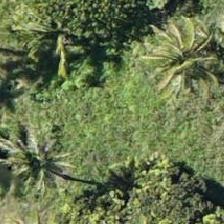coconut_tree: (0, 120, 86, 210), (138, 3, 223, 93), (12, 0, 102, 83)
